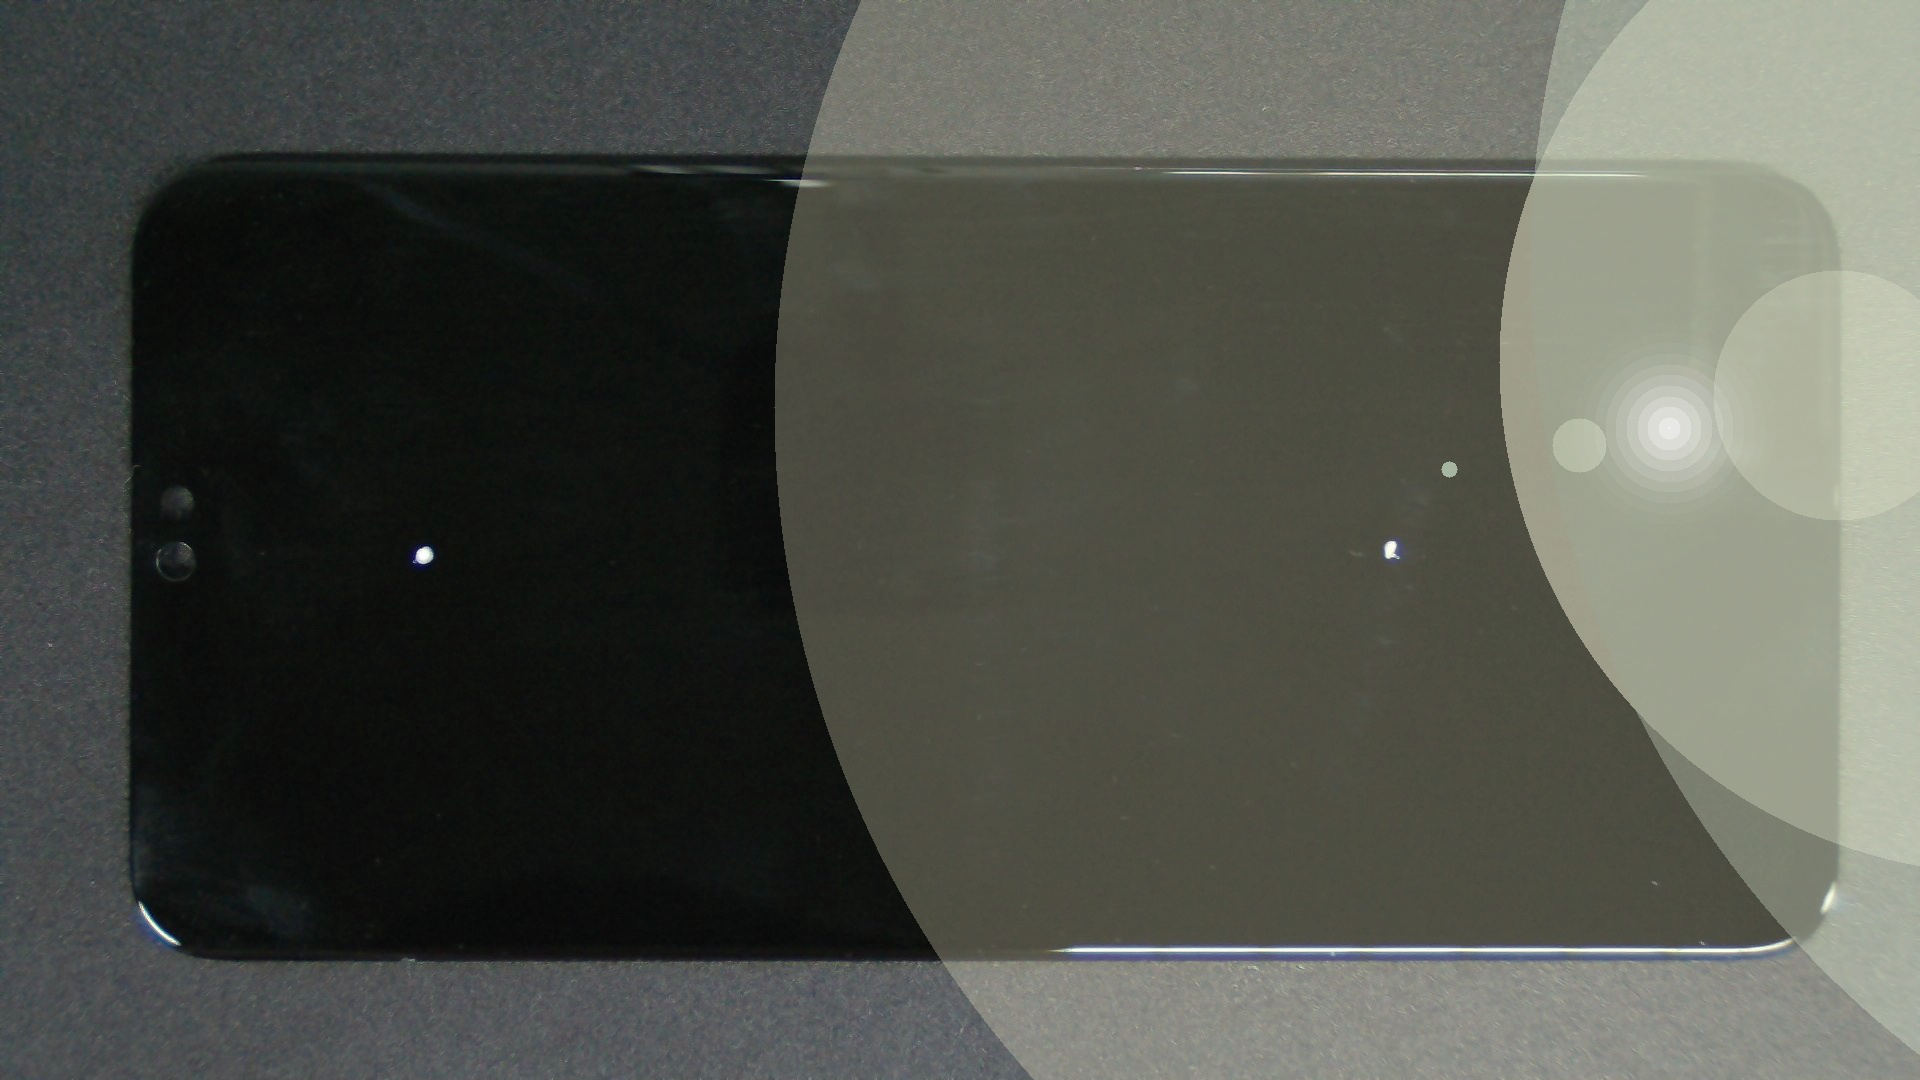oil: (696, 269, 1920, 808), (214, 272, 637, 818)
